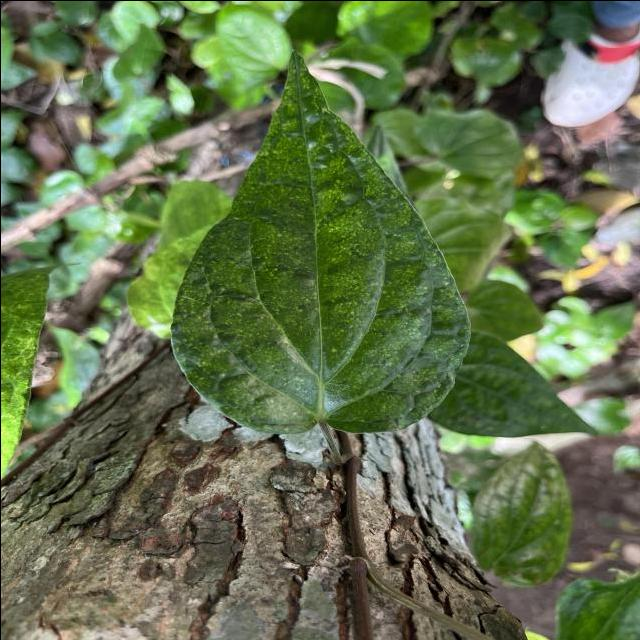Piper betle: (165, 46, 474, 437)
